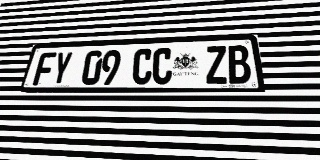0: (80, 50, 104, 85)
9: (99, 50, 122, 85)
B: (226, 45, 252, 84)
C: (131, 48, 153, 85), (151, 48, 173, 84)
F: (32, 52, 57, 85)
Y: (49, 51, 73, 85)
Z: (205, 46, 228, 84)
